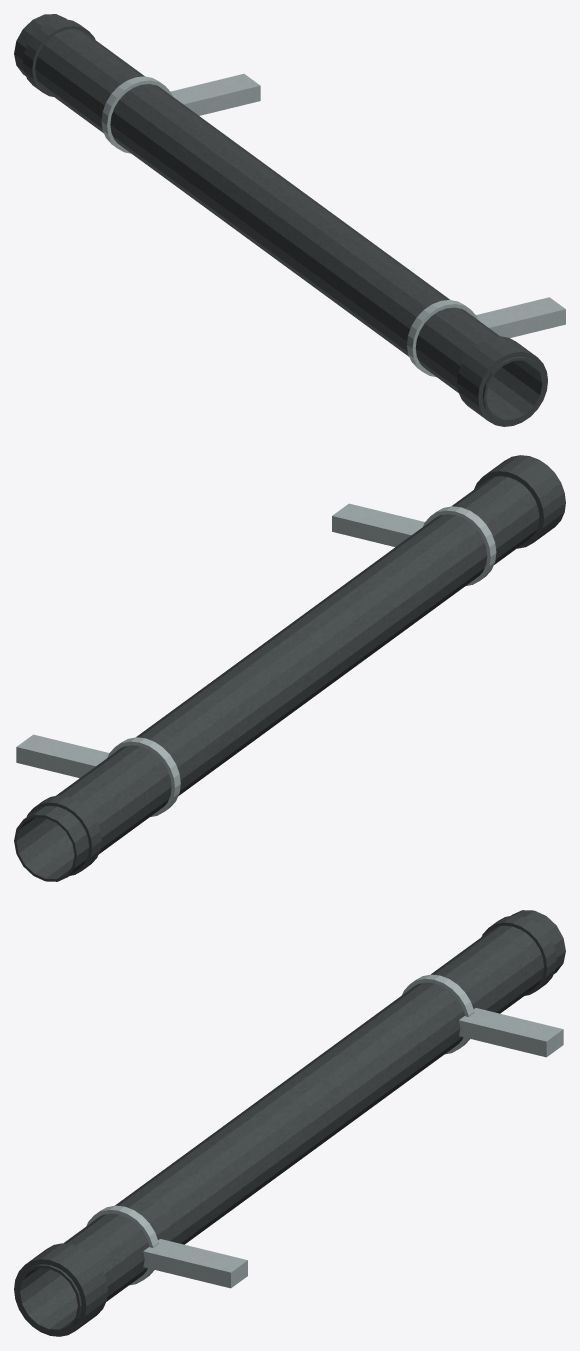
Rendered from Downspout_1m.glb.
3 renders of one model, top to bottom at view 1: azimuth 30°, elevation 25°; view 2: azimuth 150°, elevation 25°; view 3: azimuth 330°, elevation 25°, orthographic. The views are drawn at different scales.
Visible parts, largest first — view 1: Pipe_Body_75mm, Upper_Female_Socket, Wall_Strap_Tab_1, Wall_Strap_Tab_2, Lower_Snap_Rib, Wall_Strap_Band_2, Wall_Strap_Band_1; view 2: Pipe_Body_75mm, Upper_Female_Socket, Wall_Strap_Tab_1, Wall_Strap_Tab_2, Lower_Snap_Rib, Wall_Strap_Band_2, Wall_Strap_Band_1; view 3: Pipe_Body_75mm, Upper_Female_Socket, Wall_Strap_Tab_1, Wall_Strap_Tab_2, Lower_Snap_Rib, Wall_Strap_Band_1, Wall_Strap_Band_2.
Boxes of the visible parts, x1,y1,x2,y2 form: Pipe_Body_75mm: (14, 14, 544, 422); Upper_Female_Socket: (457, 336, 547, 426); Wall_Strap_Tab_1: (171, 73, 260, 115); Wall_Strap_Tab_2: (476, 297, 565, 337); Lower_Snap_Rib: (23, 19, 95, 96); Wall_Strap_Band_2: (407, 300, 477, 376); Wall_Strap_Band_1: (101, 76, 172, 153); Pipe_Body_75mm: (14, 476, 539, 881); Upper_Female_Socket: (474, 455, 565, 548); Wall_Strap_Tab_1: (16, 734, 109, 778); Wall_Strap_Tab_2: (332, 503, 424, 547); Lower_Snap_Rib: (26, 795, 101, 875); Wall_Strap_Band_2: (423, 506, 496, 586); Wall_Strap_Band_1: (107, 737, 180, 816); Pipe_Body_75mm: (17, 910, 565, 1332); Upper_Female_Socket: (14, 1243, 107, 1336); Wall_Strap_Tab_1: (459, 1008, 563, 1057); Wall_Strap_Tab_2: (143, 1239, 247, 1288); Lower_Snap_Rib: (481, 915, 556, 995); Wall_Strap_Band_1: (402, 974, 474, 1054); Wall_Strap_Band_2: (86, 1205, 158, 1285).
Size of the model in its own units: 0.183 by 0.086 by 1.
2 materials, 2 textured.
